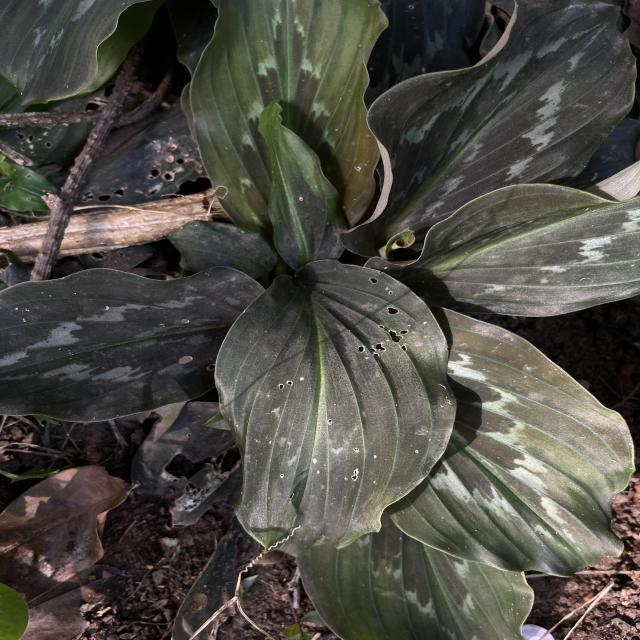Kaempferia galanga linn: (335, 0, 640, 263), (212, 256, 459, 561), (384, 303, 638, 581), (187, 0, 393, 235), (362, 157, 640, 319), (0, 261, 268, 426), (254, 95, 351, 270)
